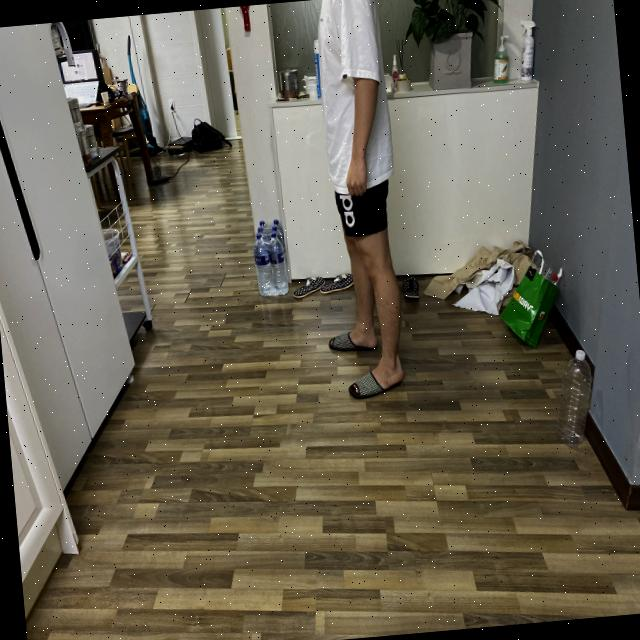no-boots: (352, 350, 414, 408), (322, 307, 382, 359)
